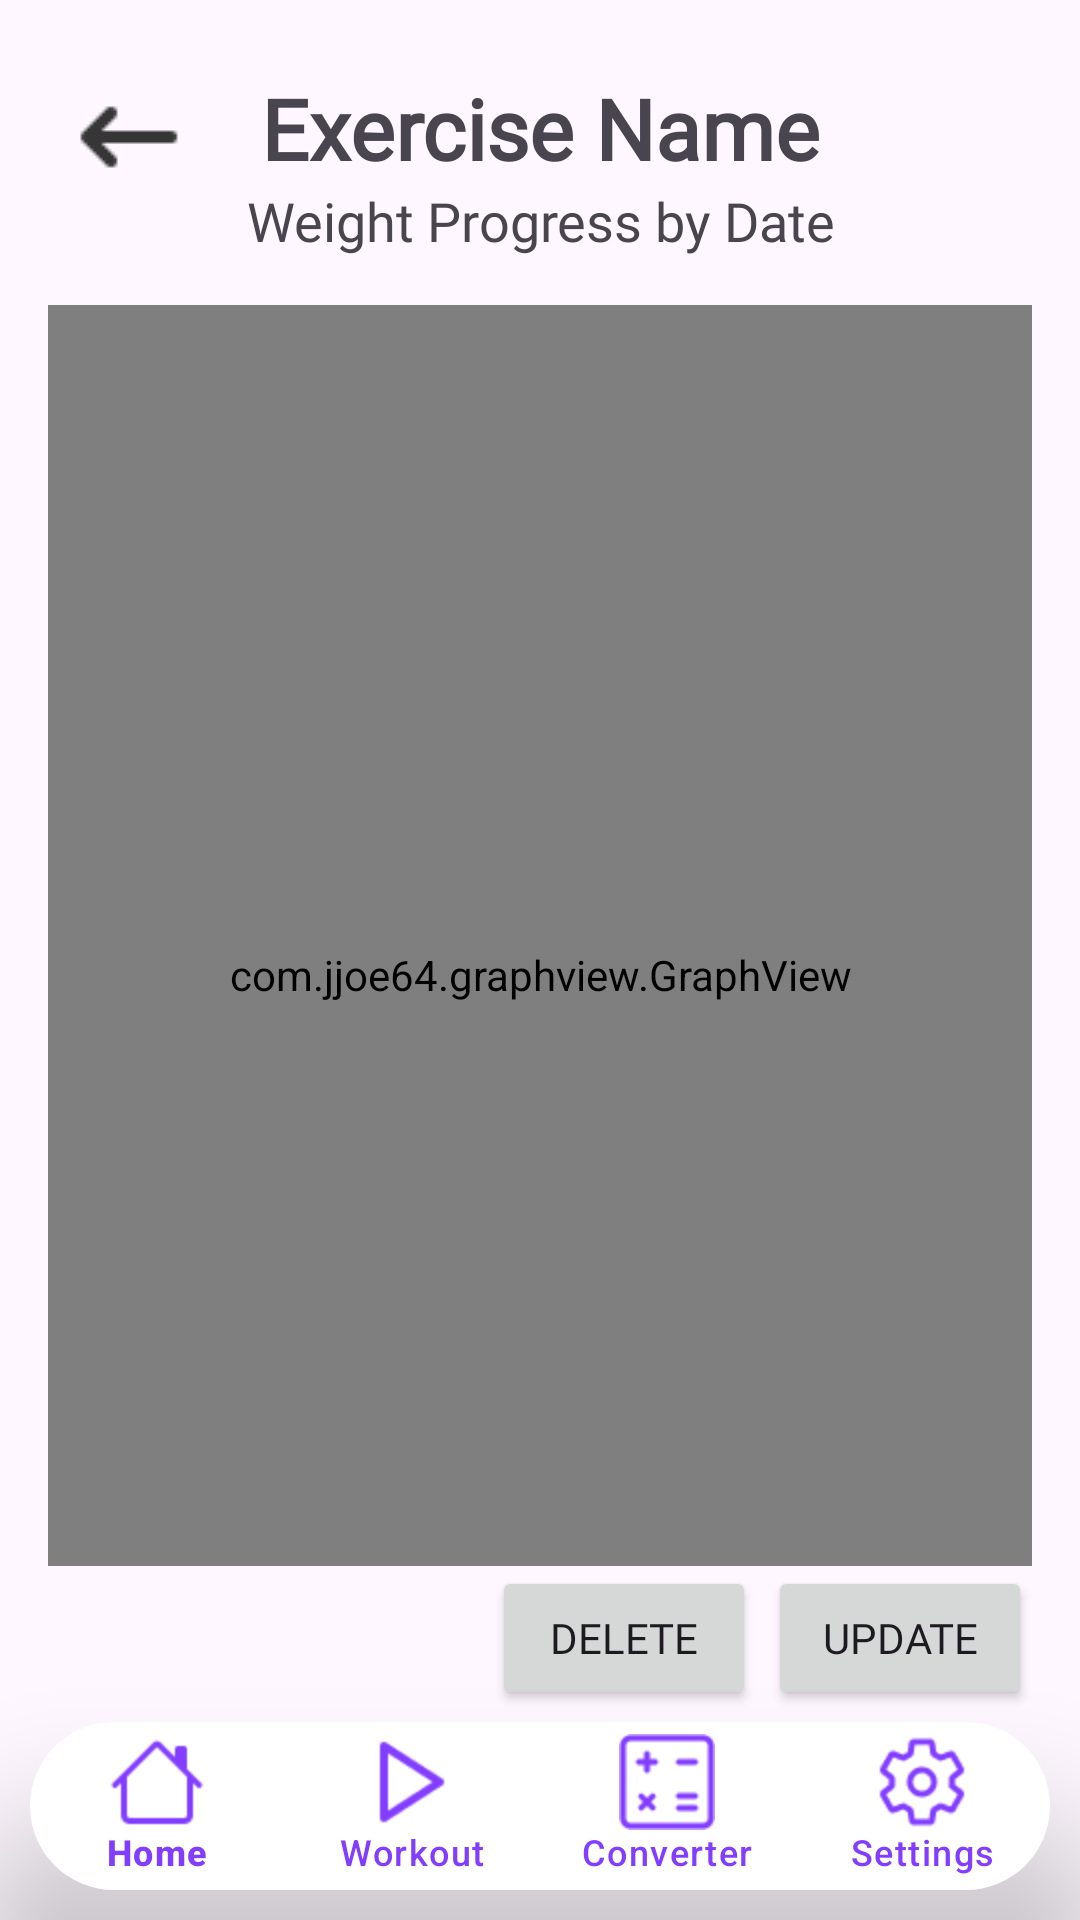

Named icons in this screenshot (1080×1920) and their bounding boxes, {"left": x1, "top": y1, "right": x2, "bottom": y2}:
arrow back: {"left": 80, "top": 106, "right": 178, "bottom": 168}
